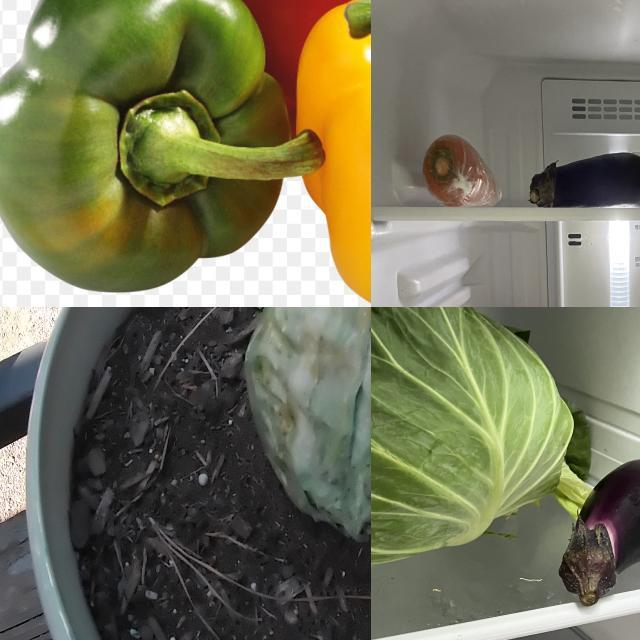bell_pepper: (1, 1, 292, 295), (143, 1, 372, 104), (301, 1, 372, 308)
cabbage: (372, 308, 577, 640), (238, 308, 372, 565)
carrot: (424, 134, 504, 209)
eggplant: (558, 456, 640, 613), (529, 150, 640, 208)
